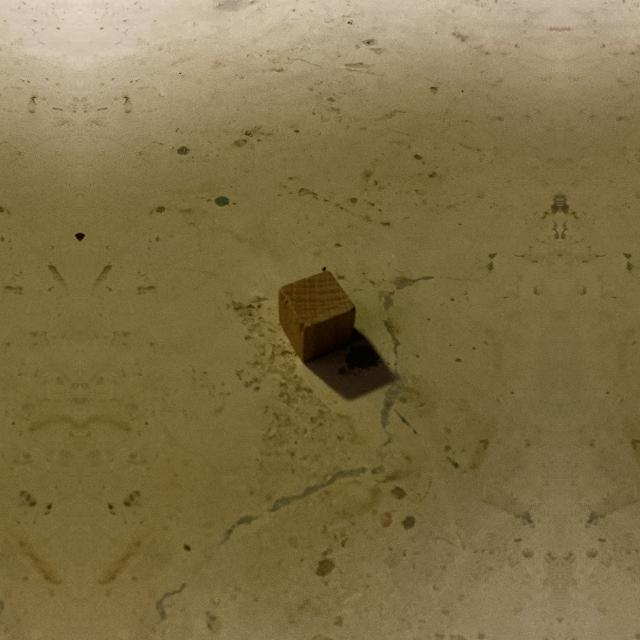cube: (278, 270, 356, 365)
